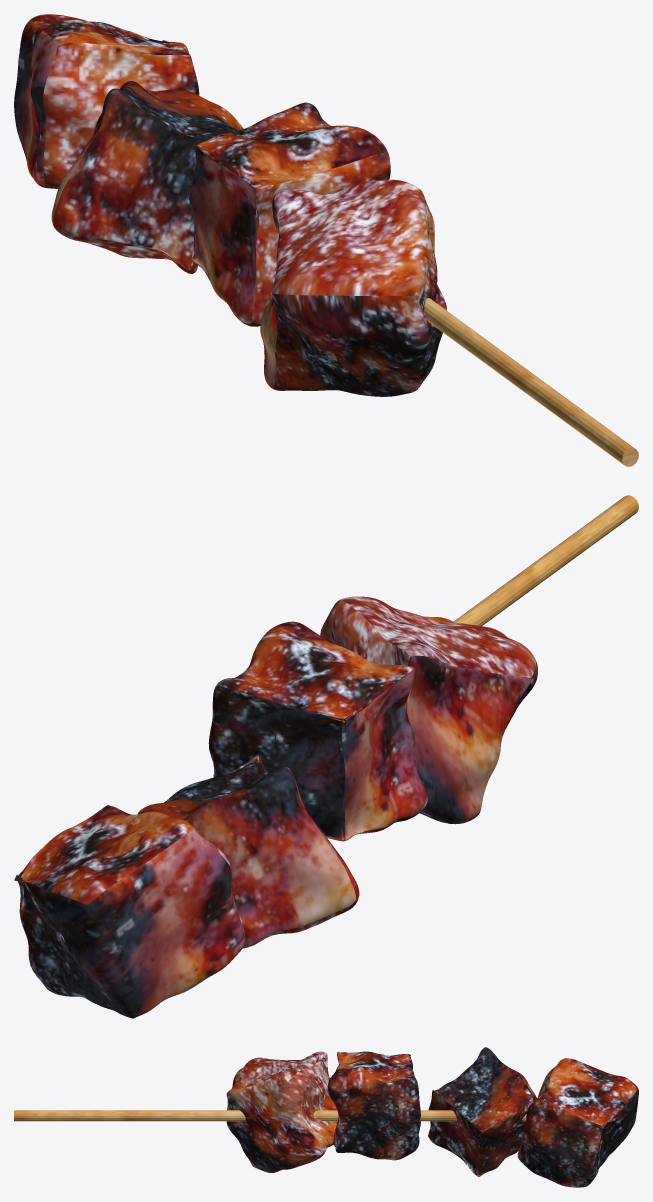
Rendered from SatayCooked.fbx.
3 renders of one model, top to bottom at view 1: azimuth 30°, elevation 25°; view 2: azimuth 150°, elevation 25°; view 3: azimuth 270°, elevation 25°, orthographic. The views are drawn at different scales.
Parts seen in each view (by area): view 1: SatayCooked, Skewer; view 2: SatayCooked, Skewer; view 3: SatayCooked, Skewer.
Boxes of the visible parts, box(x1,y1,x2,y2) form: SatayCooked: box(14, 14, 446, 396); Skewer: box(424, 298, 638, 466); SatayCooked: box(14, 596, 537, 1018); Skewer: box(453, 495, 638, 625); SatayCooked: box(226, 1047, 638, 1187); Skewer: box(14, 1110, 526, 1121).
Bounding box in the file's own units: 341 × 299 × 1492.
